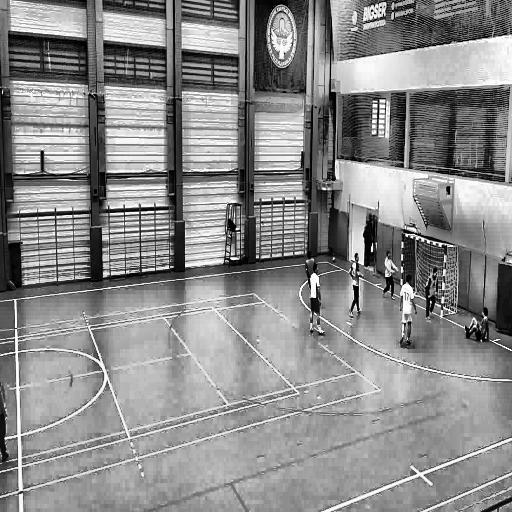ball: (331, 254, 339, 267)
player: (398, 274, 419, 348), (308, 263, 328, 337), (0, 348, 11, 470), (462, 305, 492, 348), (348, 252, 364, 320), (424, 265, 440, 324), (382, 249, 400, 301), (303, 247, 316, 277)
